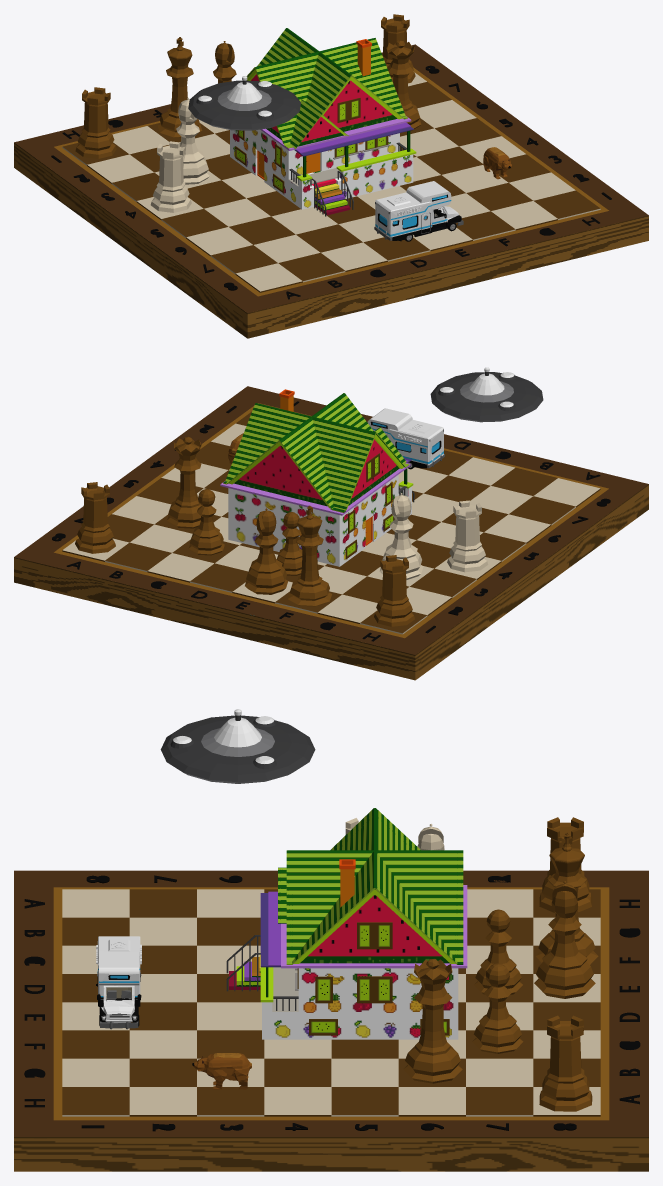
The picture shows the model from 3 angles, top to bottom: view 1: azimuth 30°, elevation 25°; view 2: azimuth 150°, elevation 25°; view 3: azimuth 270°, elevation 25°; orthographic projection. The views are drawn at different scales.
Parts seen in each view (by area): view 1: Cube.002, Cube.1063, OBJRANDOM_UFO, VEHICLES_CAMPER, ANIMAL_OSO; view 2: Cube.002, Cube.1063, OBJRANDOM_UFO, VEHICLES_CAMPER; view 3: Cube.002, Cube.1063, OBJRANDOM_UFO, VEHICLES_CAMPER, ANIMAL_OSO.
Part boxes in pixels (x1,y1,x2,y2): Cube.002: (14, 14, 648, 338); Cube.1063: (230, 28, 416, 216); OBJRANDOM_UFO: (188, 76, 300, 130); VEHICLES_CAMPER: (374, 181, 463, 241); ANIMAL_OSO: (483, 147, 512, 179); Cube.002: (14, 386, 648, 680); Cube.1063: (220, 389, 414, 566); OBJRANDOM_UFO: (430, 367, 543, 422); VEHICLES_CAMPER: (367, 408, 444, 469); Cube.002: (14, 817, 648, 1171); Cube.1063: (226, 808, 467, 1039); OBJRANDOM_UFO: (160, 709, 315, 783); VEHICLES_CAMPER: (96, 936, 141, 1029); ANIMAL_OSO: (192, 1053, 251, 1089).
Bounding box in the file's own units: 3981 × 1787 × 4012.
36 materials, 4 textured.
